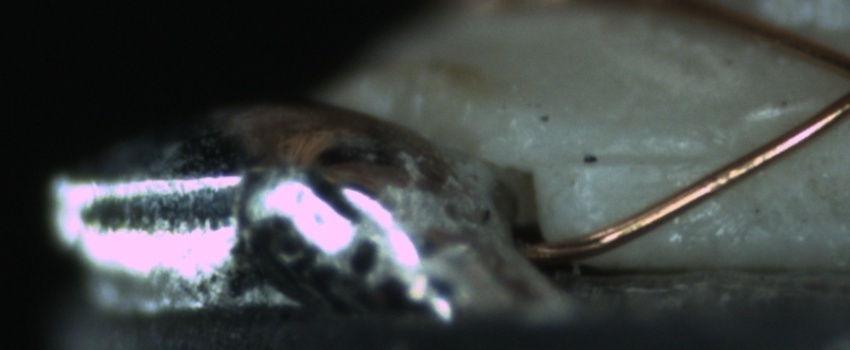DL: (578, 126, 716, 191)
